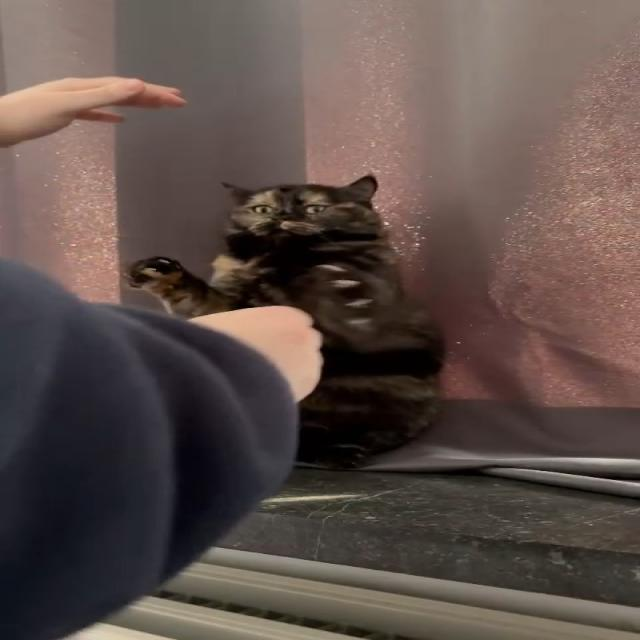authorized: (124, 173, 445, 470)
